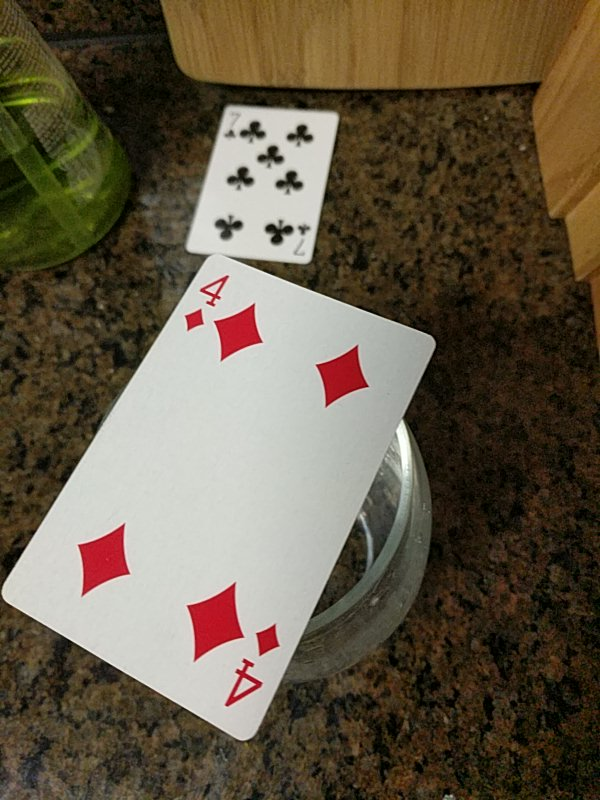Clubs: (184, 101, 339, 262)
Diamonds: (4, 254, 438, 742)
